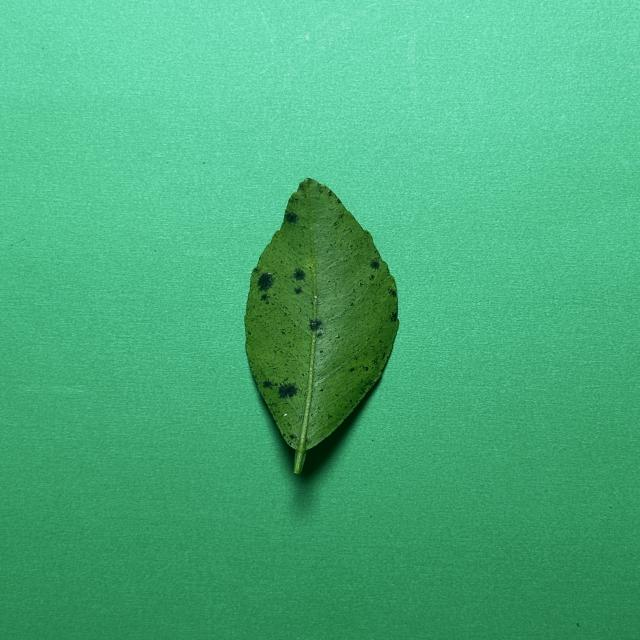sooty_mold: (245, 178, 398, 473)
